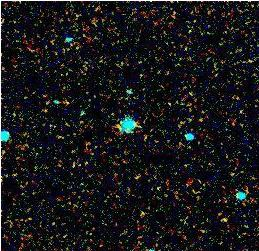star: (208, 204, 238, 234)
